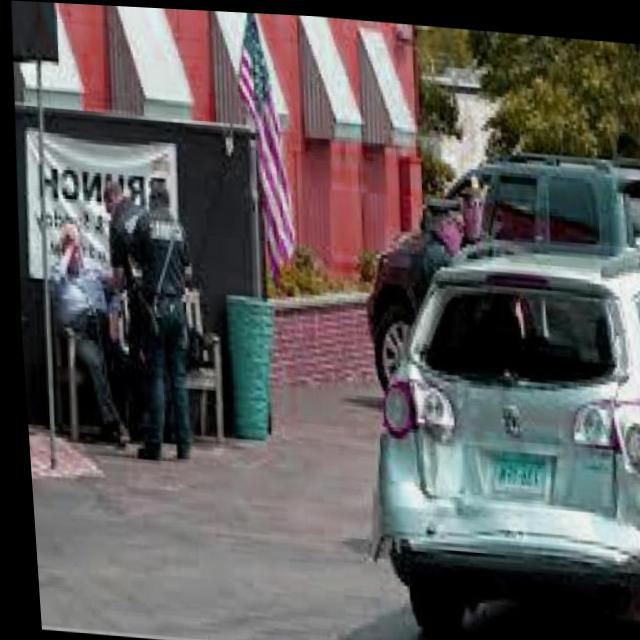Car-Damage: (362, 257, 640, 566)
